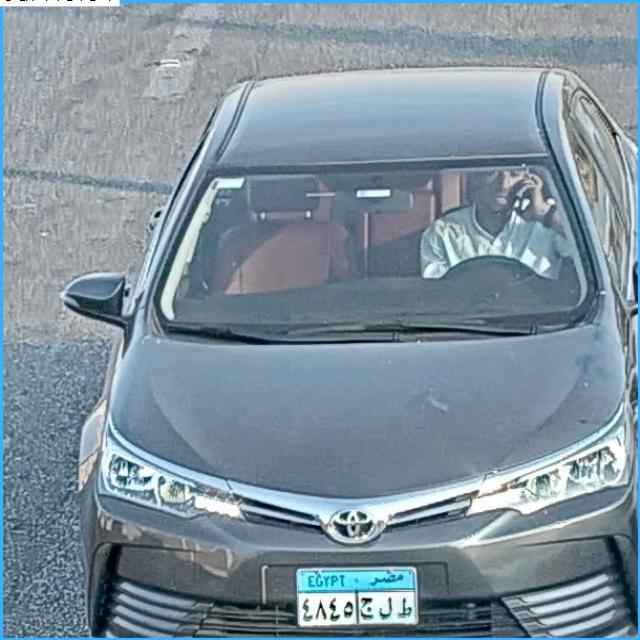windshield: (149, 148, 591, 348)
